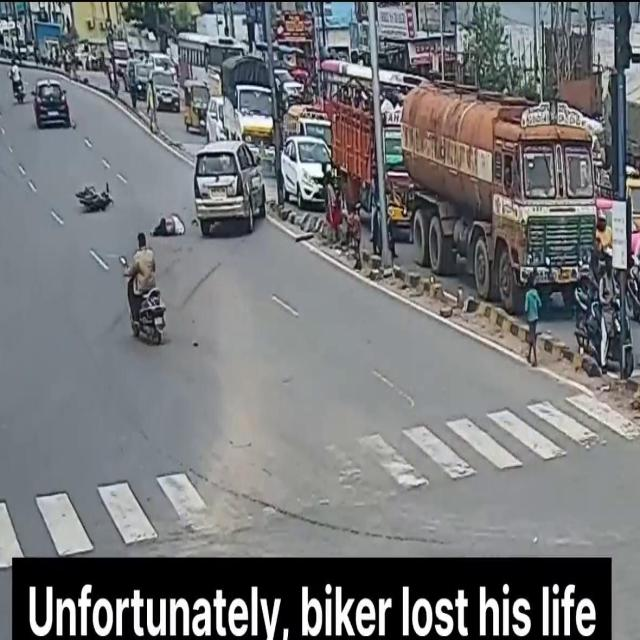accident: (148, 136, 272, 250), (72, 169, 116, 219)
non_accident: (396, 75, 640, 377), (279, 49, 395, 255), (0, 0, 188, 111), (188, 41, 275, 179)
